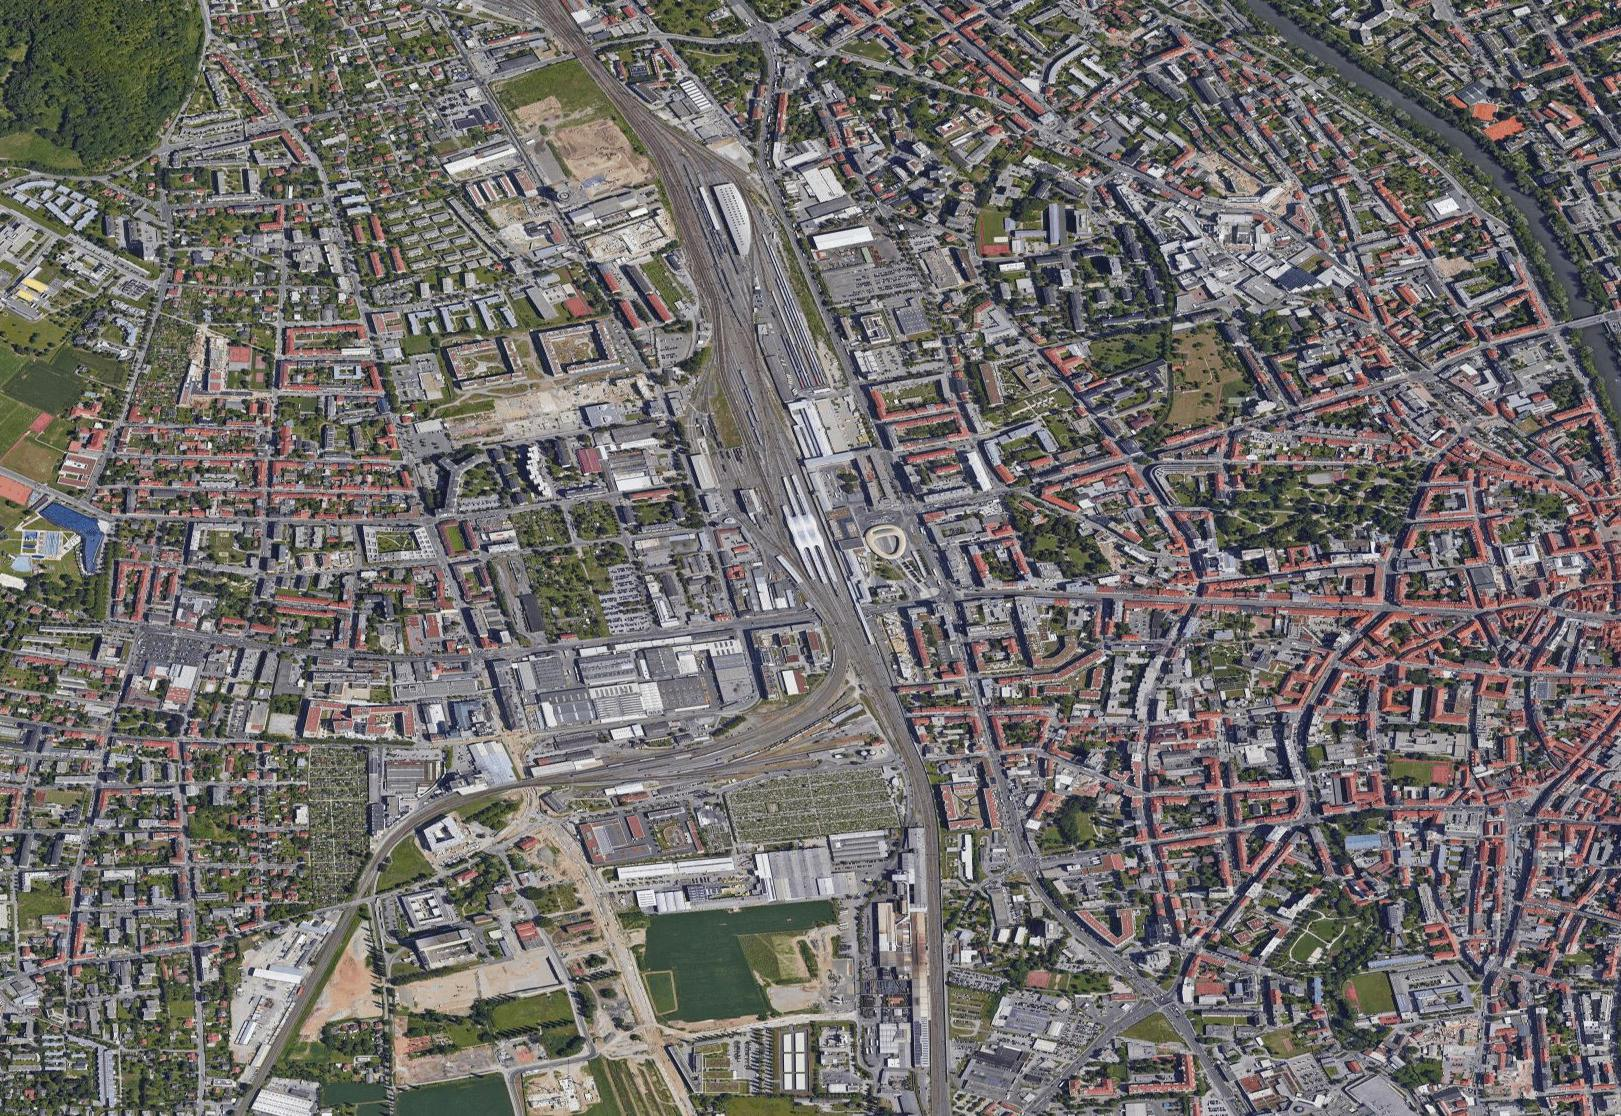bridge: (1559, 301, 1610, 338)
train_station: (734, 379, 916, 625)
